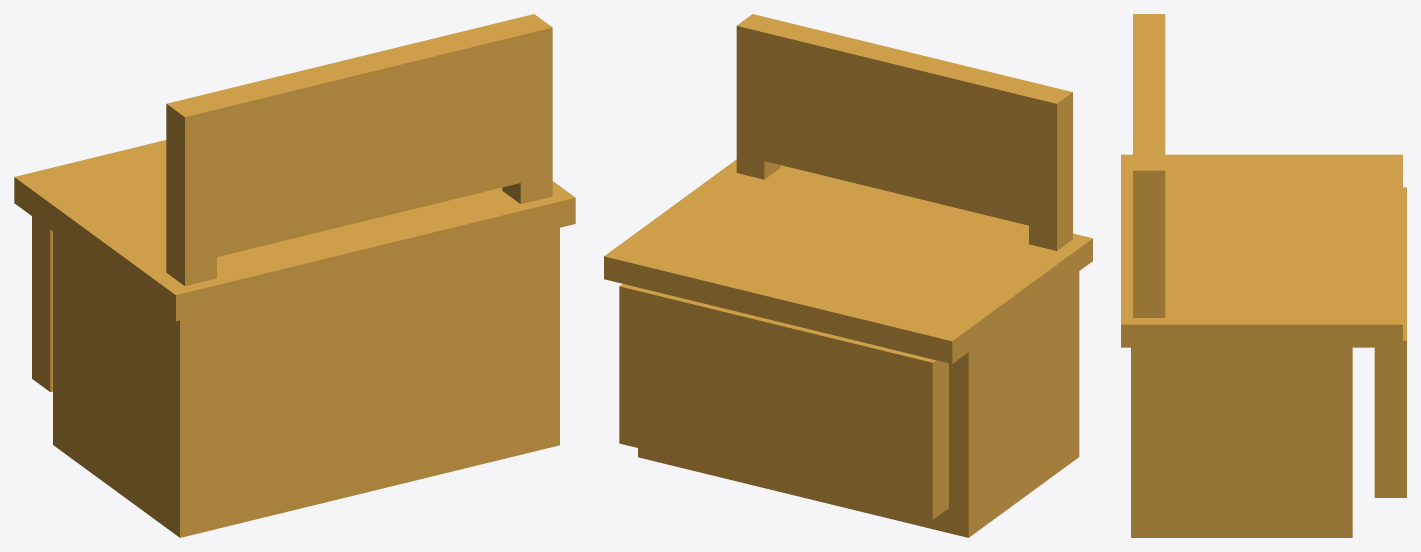
The model's file is counter.glb.
3 renders of one model, left to right at view 1: azimuth 30°, elevation 25°; view 2: azimuth 150°, elevation 25°; view 3: azimuth 270°, elevation 25°, orthographic. The views are drawn at different scales.
Parts seen in each view (by area): view 1: module.counter; view 2: module.counter; view 3: module.counter.
Boxes of the visible parts, x1,y1,x2,y2 form: module.counter: (14,14,575,537); module.counter: (604,14,1092,537); module.counter: (1121,14,1406,537).
Bounding box in the file's own units: 1 × 1 × 0.71.
